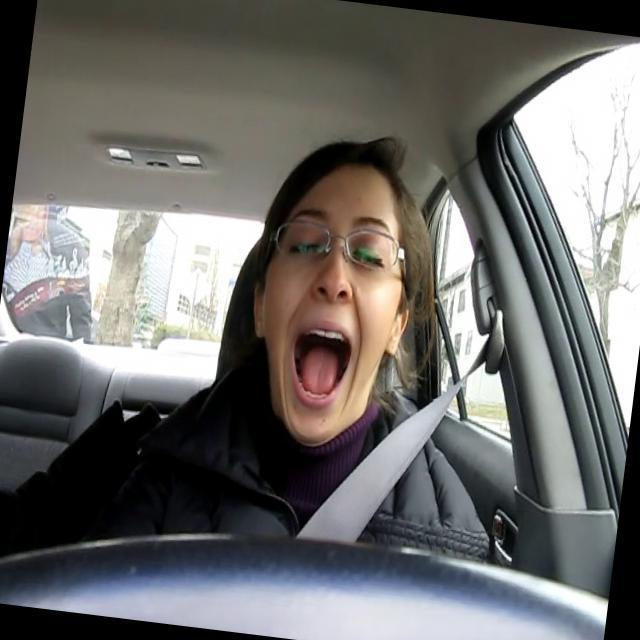open-mouth: (290, 322, 352, 404)
